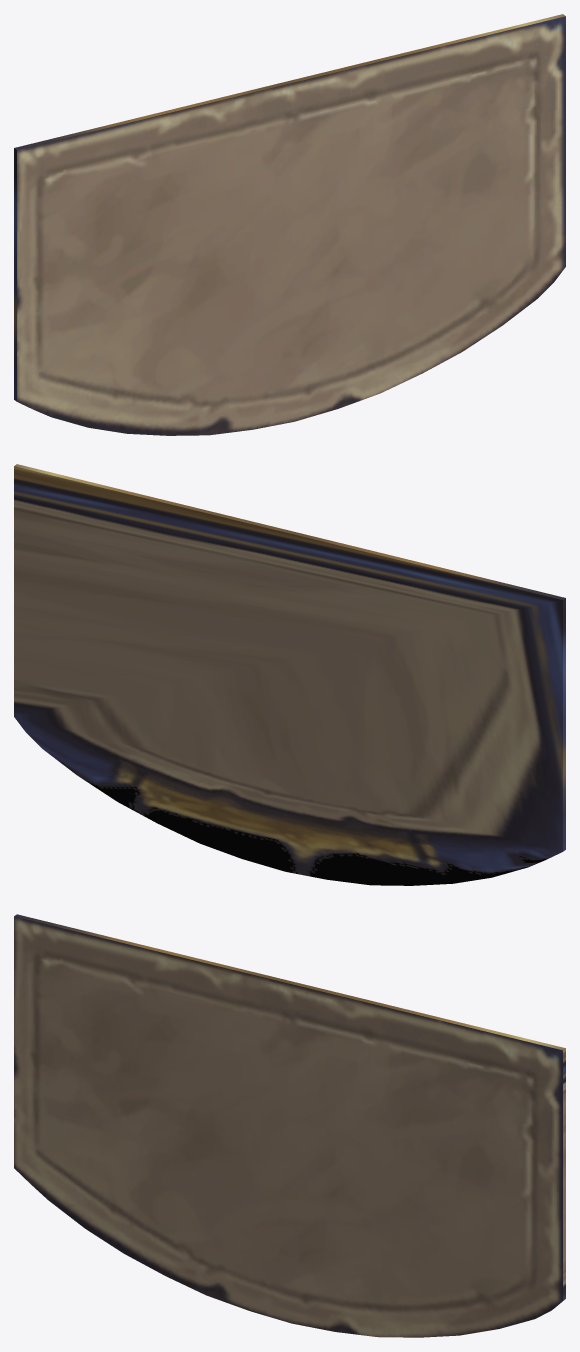
Rendered from Description.glb.
The picture shows the model from 3 angles, top to bottom: view 1: azimuth 30°, elevation 25°; view 2: azimuth 150°, elevation 25°; view 3: azimuth 330°, elevation 25°; orthographic projection.
Parts seen in each view (by area): view 1: Circle; view 2: Circle; view 3: Circle.
Boxes of the visible parts, bbox=[...] form: Circle: bbox=[14, 14, 565, 435]; Circle: bbox=[14, 464, 565, 885]; Circle: bbox=[14, 914, 565, 1337].
Bounding box in the file's own units: 5.37 × 3.17 × 0.05.
1 material, 1 textured.
